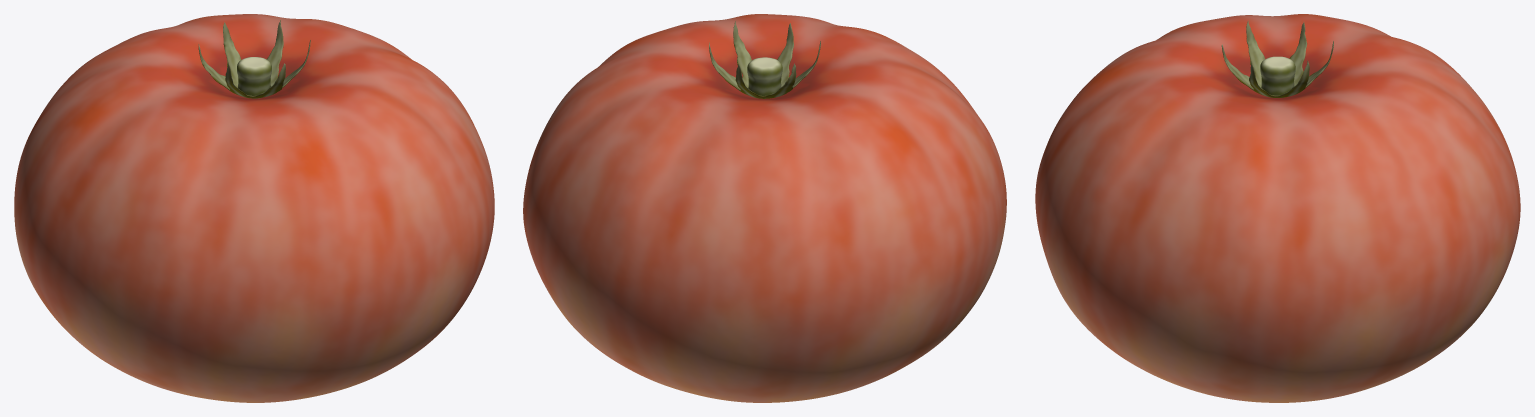
File: tomato.glb
3 renders of one model, left to right at view 1: azimuth 30°, elevation 25°; view 2: azimuth 150°, elevation 25°; view 3: azimuth 270°, elevation 25°, orthographic.
Visible parts, largest first — view 1: Object_3, Object_2, Object_4, Object_6, Object_5; view 2: Object_3, Object_2, Object_4, Object_6, Object_5; view 3: Object_3, Object_2, Object_4, Object_6, Object_5.
Boxes of the visible parts, x1,y1,x2,y2 form: Object_3: (14, 14, 494, 402); Object_2: (14, 14, 494, 402); Object_4: (14, 15, 494, 402); Object_6: (198, 20, 310, 98); Object_5: (237, 57, 271, 98); Object_3: (523, 14, 1006, 402); Object_2: (523, 14, 1006, 399); Object_4: (524, 14, 1005, 402); Object_6: (709, 21, 820, 98); Object_5: (747, 57, 782, 98); Object_3: (1035, 15, 1520, 402); Object_2: (1049, 14, 1520, 402); Object_4: (1035, 14, 1519, 402); Object_6: (1221, 20, 1333, 97); Object_5: (1260, 56, 1295, 97).
Size of the model in its own units: 2.14 by 1.58 by 2.14.
